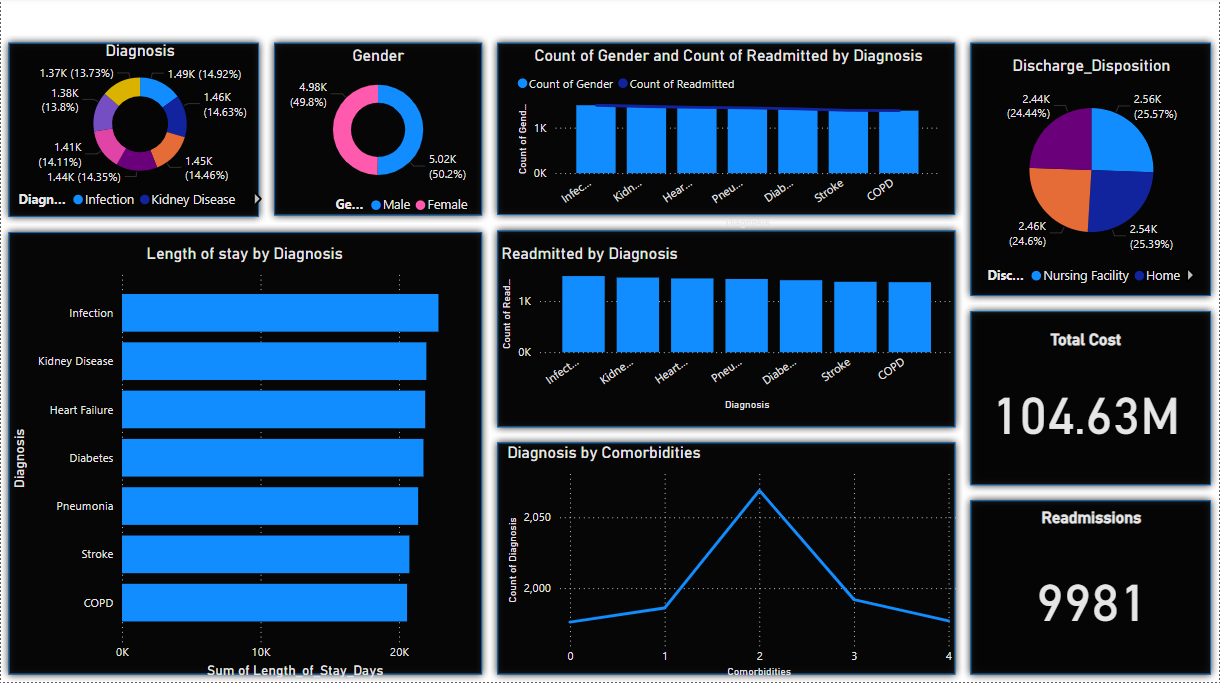

What the dashboard file says about the page in this screenshot:
{"tool":"powerbi","page":{"name":"Page 1","canvas":[1280,720],"ordinal":0},"visuals":[{"type":"shape","box":[0,40.1,279,198.9],"z":0},{"type":"shape","box":[279,40.1,234.5,197.4],"z":1000},{"type":"shape","box":[0,238.9,513.5,480.9],"z":2000},{"type":"barChart","title":"Length of stay by Diagnosis","fields":{"Y":["Sum(healthcare_readmission_dataset.Length_of_Stay_Days)"],"Category":["healthcare_readmission_dataset.Diagnosis"]},"box":[5.9,259.7,500.1,460.1],"z":3000},{"type":"shape","box":[513.5,460.1,497.2,259.7],"z":4000},{"type":"lineChart","title":" Diagnosis by Comorbidities","fields":{"Category":["healthcare_readmission_dataset.Comorbidities"],"Y":["CountNonNull(healthcare_readmission_dataset.Diagnosis)"]},"box":[526.9,469,483.8,250.8],"z":5000},{"type":"shape","box":[513.5,237.5,497.2,222.6],"z":6000},{"type":"columnChart","title":"Readmitted by Diagnosis","fields":{"Category":["healthcare_readmission_dataset.Diagnosis"],"Y":["CountNonNull(healthcare_readmission_dataset.Readmitted)"]},"box":[520.9,259.7,485.3,179.6],"z":7000},{"type":"shape","box":[1010.7,322.1,268.6,198.9],"z":8000},{"type":"shape","box":[1010.7,520.9,268.6,198.9],"z":9000},{"type":"shape","box":[1010.7,40.1,268.6,282],"z":10000},{"type":"donutChart","title":"Gender","fields":{"Category":["healthcare_readmission_dataset.Gender"],"Y":["CountNonNull(healthcare_readmission_dataset.Gender)"]},"box":[292.4,51.9,207.8,185.5],"z":11000},{"type":"donutChart","title":" Diagnosis","fields":{"Category":["healthcare_readmission_dataset.Diagnosis"],"Y":["CountNonNull(healthcare_readmission_dataset.Diagnosis)"]},"box":[13.4,46,265.7,185.5],"z":12000},{"type":"pieChart","title":" Discharge_Disposition","fields":{"Category":["healthcare_readmission_dataset.Discharge_Disposition"],"Y":["CountNonNull(healthcare_readmission_dataset.Discharge_Disposition)"]},"box":[1031.5,62.3,228.6,249.3],"z":13000},{"type":"card","title":"Total Cost","fields":{"Values":["Sum(healthcare_readmission_dataset.Total_Cost)"]},"box":[1031.5,350.2,216.7,146.9],"z":14000},{"type":"card","title":"Readmissions","fields":{"Values":["Sum(healthcare_readmission_dataset.Previous_Readmissions)"]},"box":[1021.1,537.2,249.3,164.7],"z":15000},{"type":"shape","box":[514,40,497,197],"z":16000},{"type":"lineStackedColumnComboChart","fields":{"Category":["healthcare_readmission_dataset.Diagnosis"],"Y":["CountNonNull(healthcare_readmission_dataset.Gender)"],"Y2":["CountNonNull(healthcare_readmission_dataset.Readmitted)"]},"box":[537.2,51.9,454.1,195.9],"z":17000},{"type":"textbox","box":[211.1,0,857.8,40.1],"z":18000}]}

Visuals, with their boxes in screenshot pixels (x1, y1, x2, y2), scaled from the page's 1280x720 canvas onto the 1220x683 screenshot:
shape: [0, 38, 266, 227]
shape: [266, 38, 489, 225]
shape: [0, 227, 489, 682]
"Length of stay by Diagnosis" barChart: [6, 246, 482, 682]
shape: [489, 436, 963, 682]
" Diagnosis by Comorbidities" lineChart: [502, 445, 963, 682]
shape: [489, 225, 963, 436]
"Readmitted by Diagnosis" columnChart: [496, 246, 959, 417]
shape: [963, 306, 1219, 494]
shape: [963, 494, 1219, 682]
shape: [963, 38, 1219, 306]
"Gender" donutChart: [279, 49, 477, 225]
" Diagnosis" donutChart: [13, 44, 266, 220]
" Discharge_Disposition" pieChart: [983, 59, 1201, 296]
"Total Cost" card: [983, 332, 1190, 472]
"Readmissions" card: [973, 510, 1211, 666]
shape: [490, 38, 964, 225]
lineStackedColumnComboChart - healthcare_readmission_dataset.Diagnosis x CountNonNull(healthcare_readmission_dataset.Gender): [512, 49, 945, 235]
textbox: [201, 0, 1019, 38]
